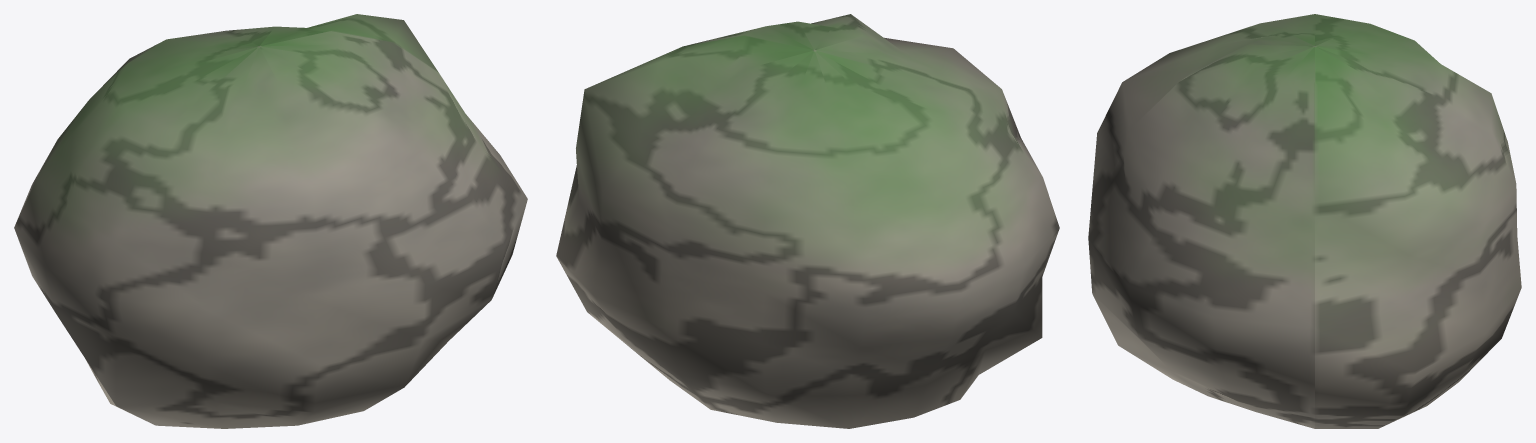
Rendered from boulder.glb.
3 renders of one model, left to right at view 1: azimuth 30°, elevation 25°; view 2: azimuth 150°, elevation 25°; view 3: azimuth 270°, elevation 25°, orthographic. The views are drawn at different scales.
Visible parts, largest first — view 1: boulder; view 2: boulder; view 3: boulder.
Part boxes in pixels (x1,y1,x2,y2): boulder: (14,14,527,428); boulder: (556,14,1059,428); boulder: (1088,14,1521,428).
Bounding box in the file's own units: 53.71 × 40.01 × 44.58.
Materials: 1 (1 with a texture image).
